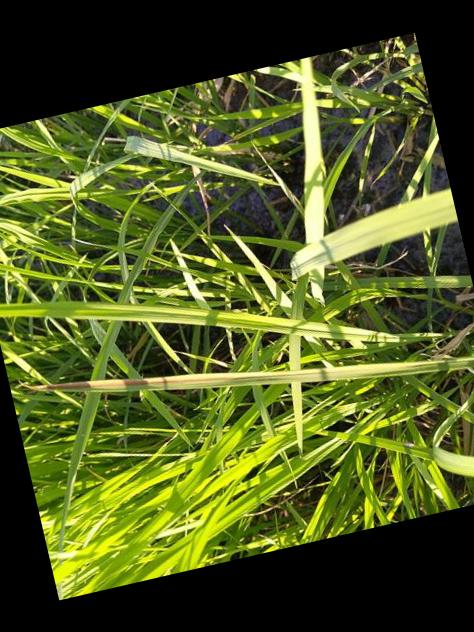Leaf Streak: (28, 378, 124, 391), (125, 374, 208, 387)
